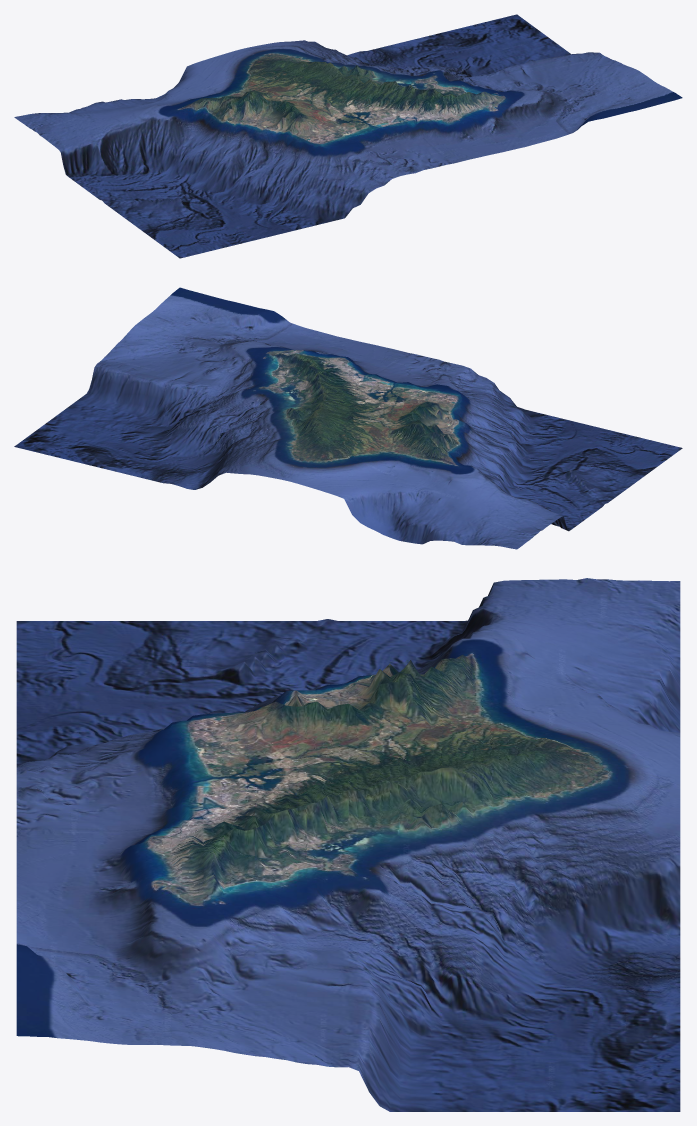
File: island.gltf
The picture shows the model from 3 angles, top to bottom: view 1: azimuth 30°, elevation 25°; view 2: azimuth 150°, elevation 25°; view 3: azimuth 270°, elevation 25°; orthographic projection. The views are drawn at different scales.
Parts seen in each view (by area): view 1: EXPORT_GOOGLE_SAT_WM; view 2: EXPORT_GOOGLE_SAT_WM; view 3: EXPORT_GOOGLE_SAT_WM.
Part boxes in pixels (left/top/right/bottom): EXPORT_GOOGLE_SAT_WM: left=14, top=14, right=682, bottom=258; EXPORT_GOOGLE_SAT_WM: left=14, top=287, right=682, bottom=549; EXPORT_GOOGLE_SAT_WM: left=16, top=578, right=680, bottom=1111.
Size of the model in its own units: 698 by 73.1 by 399.
1 material, 1 textured.
